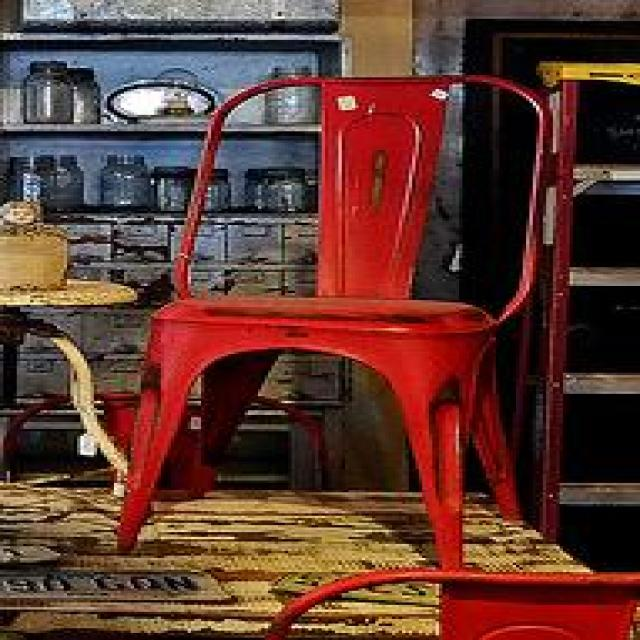chair: (116, 70, 546, 571)
